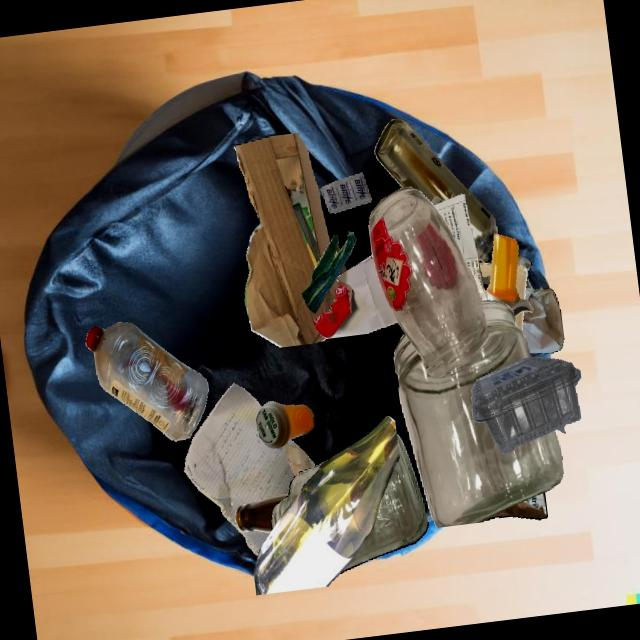biowaste: (301, 231, 356, 313)
cardboard: (233, 132, 347, 347), (484, 491, 547, 521), (488, 275, 520, 320), (515, 264, 527, 299), (478, 262, 491, 277), (520, 312, 523, 331)
glass: (394, 300, 562, 528), (253, 416, 399, 595), (368, 186, 487, 377), (374, 118, 498, 263), (339, 432, 428, 573), (235, 493, 288, 533), (284, 442, 315, 475)
paper: (184, 382, 295, 555), (313, 254, 397, 338), (430, 193, 490, 300), (517, 255, 563, 353)
plastic: (85, 321, 208, 441), (471, 356, 580, 453), (255, 401, 313, 448), (486, 233, 519, 309), (320, 172, 371, 213)
